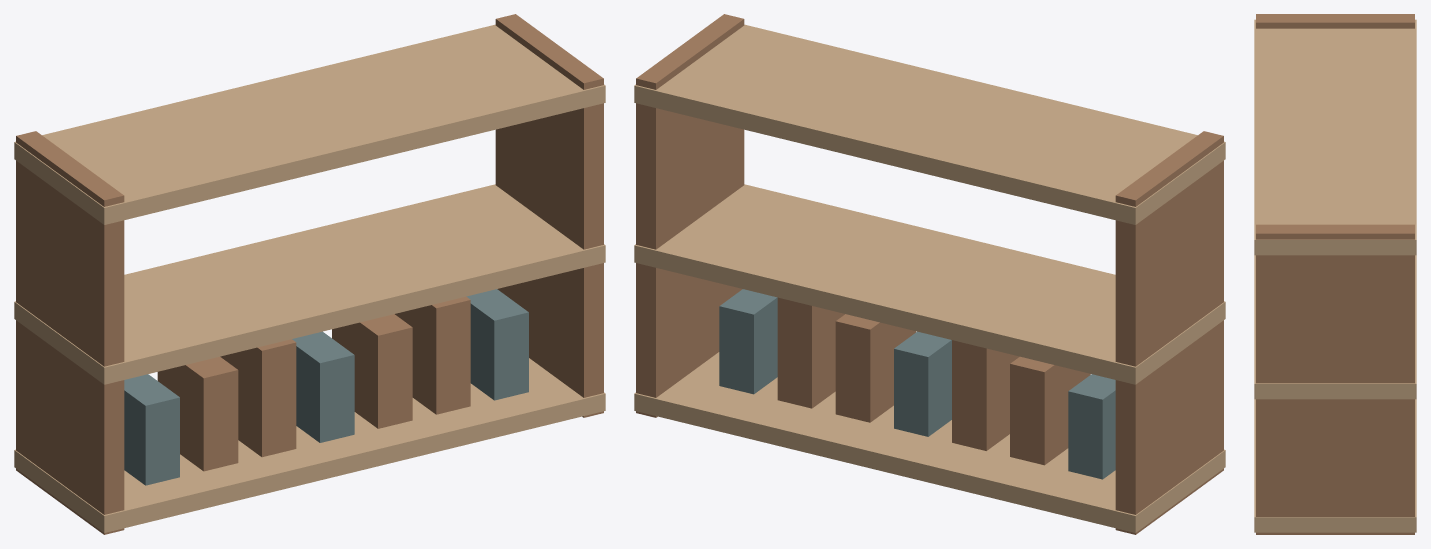
The model's file is shelf_low.glb.
3 renders of one model, left to right at view 1: azimuth 30°, elevation 25°; view 2: azimuth 150°, elevation 25°; view 3: azimuth 270°, elevation 25°, orthographic. The views are drawn at different scales.
Visible parts, largest first — view 1: _MeshInstance3D_38, _MeshInstance3D_37, LowShelfSide, _MeshInstance3D_36, LowShelfBoard, _MeshInstance3D_39, _MeshInstance3D_42, _MeshInstance3D_40, _MeshInstance3D_43, _MeshInstance3D_44, _MeshInstance3D_41, BookSpine; view 2: _MeshInstance3D_38, _MeshInstance3D_37, LowShelfSide, LowShelfBoard, _MeshInstance3D_36, _MeshInstance3D_42, _MeshInstance3D_39, _MeshInstance3D_43, _MeshInstance3D_40, _MeshInstance3D_44, _MeshInstance3D_41, BookSpine; view 3: _MeshInstance3D_36, _MeshInstance3D_38, _MeshInstance3D_37, LowShelfBoard, LowShelfSide.
Boxes of the visible parts, box(x1,y1,x2,y2) form: _MeshInstance3D_38: box(14, 24, 605, 224); _MeshInstance3D_37: box(14, 184, 605, 384); LowShelfSide: box(16, 131, 124, 534); _MeshInstance3D_36: box(495, 14, 603, 417); LowShelfBoard: box(14, 358, 605, 532); _MeshInstance3D_39: box(157, 356, 238, 471); _MeshInstance3D_42: box(332, 314, 412, 428); _MeshInstance3D_40: box(220, 339, 296, 457); _MeshInstance3D_43: box(395, 296, 470, 414); _MeshInstance3D_44: box(466, 289, 528, 400); _MeshInstance3D_41: box(292, 331, 354, 442); BookSpine: box(124, 374, 179, 485); _MeshInstance3D_38: box(634, 24, 1225, 224); _MeshInstance3D_37: box(634, 184, 1225, 384); LowShelfSide: box(1115, 131, 1223, 534); LowShelfBoard: box(634, 352, 1225, 532); _MeshInstance3D_36: box(636, 14, 744, 417); _MeshInstance3D_42: box(835, 314, 916, 422); _MeshInstance3D_39: box(1010, 356, 1090, 465); _MeshInstance3D_43: box(777, 297, 844, 408); _MeshInstance3D_40: box(952, 340, 1019, 450); _MeshInstance3D_44: box(719, 289, 777, 394); _MeshInstance3D_41: box(894, 331, 951, 436); BookSpine: box(1068, 374, 1115, 479); _MeshInstance3D_36: box(1256, 224, 1414, 534); _MeshInstance3D_38: box(1254, 19, 1416, 255); _MeshInstance3D_37: box(1254, 255, 1416, 399); LowShelfBoard: box(1254, 399, 1416, 532); LowShelfSide: box(1256, 14, 1414, 28).
Bounding box in the file's own units: 1.38 × 0.88 × 0.43.
